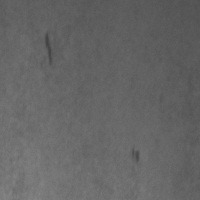inclusion: (40, 29, 58, 70), (129, 143, 144, 166)
